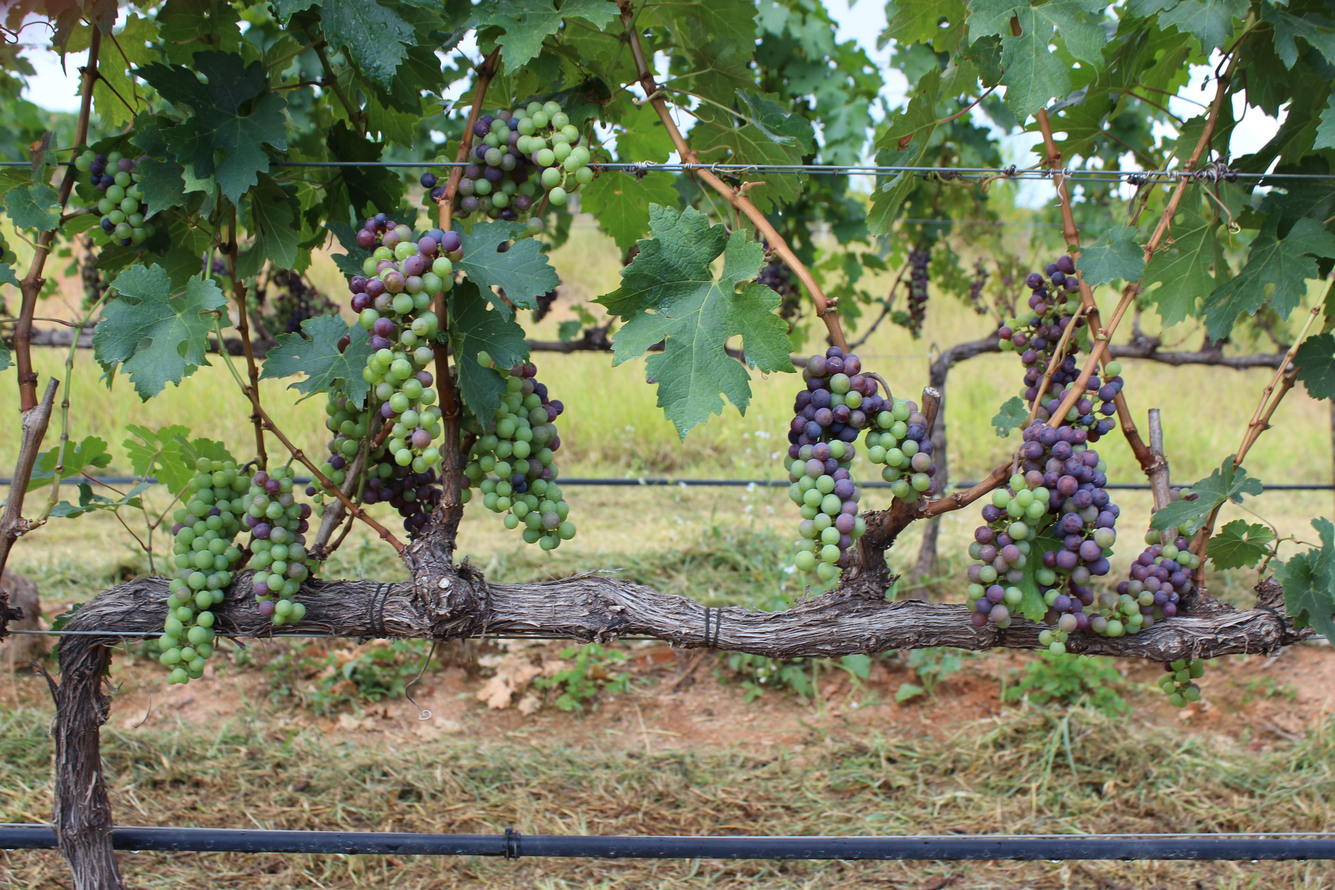leaf: (596, 204, 792, 438), (136, 50, 286, 201), (93, 264, 227, 400), (1204, 214, 1335, 340), (447, 280, 528, 427), (454, 220, 559, 317), (261, 315, 371, 406), (1142, 209, 1218, 327), (1150, 456, 1263, 535), (320, 0, 416, 88), (579, 172, 679, 253), (1274, 517, 1335, 641), (236, 174, 300, 277), (1260, 3, 1335, 69), (1158, 0, 1249, 53), (1077, 226, 1145, 287), (50, 482, 151, 518), (1207, 519, 1275, 570), (1293, 332, 1335, 399), (5, 183, 60, 232), (327, 222, 370, 277), (60, 435, 112, 479), (991, 396, 1029, 438), (27, 447, 59, 491), (1240, 3, 1246, 14), (223, 316, 229, 326), (1137, 247, 1139, 251), (1161, 17, 1162, 21), (1082, 257, 1083, 260), (1184, 0, 1185, 2)
